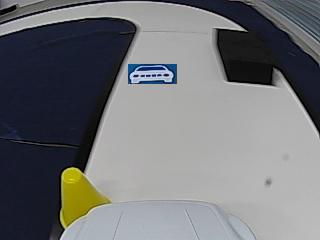block: (216, 29, 275, 84)
cone: (60, 169, 112, 221)
